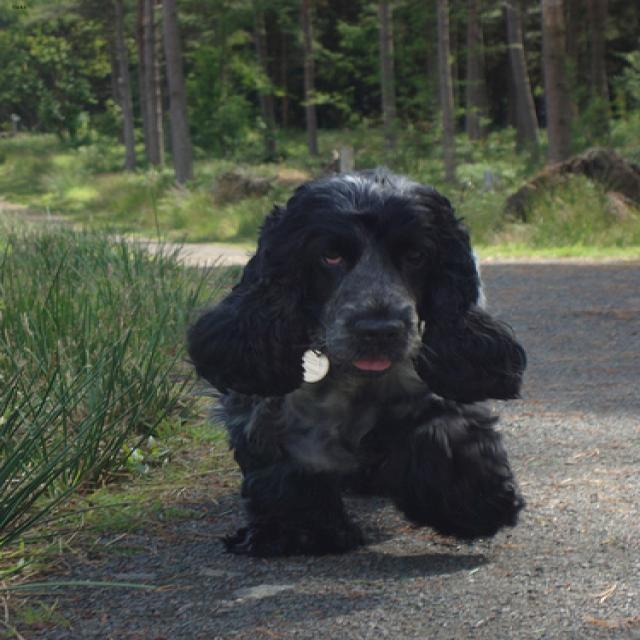dog-english_cocker_spaniel: (169, 160, 541, 570)
